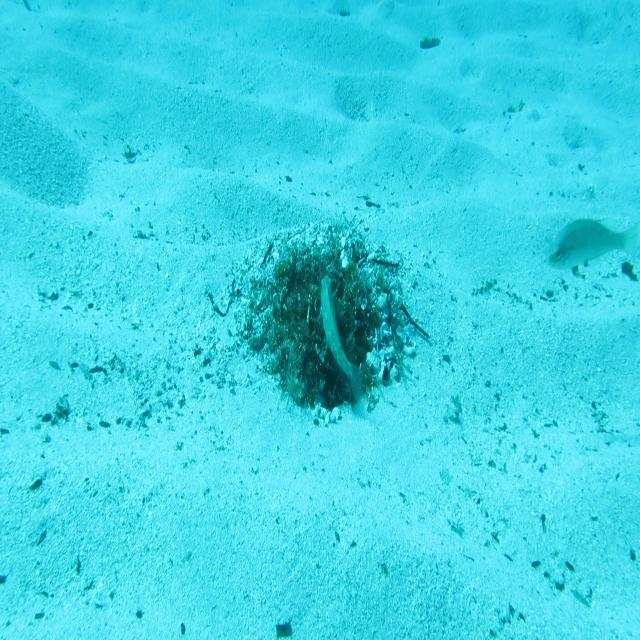FAN: (314, 270, 366, 410)
core_nest: (297, 264, 339, 300)
female: (544, 210, 640, 274)
nest: (227, 209, 425, 440)
vegetation: (622, 259, 638, 287), (421, 34, 442, 52), (276, 619, 292, 639)
